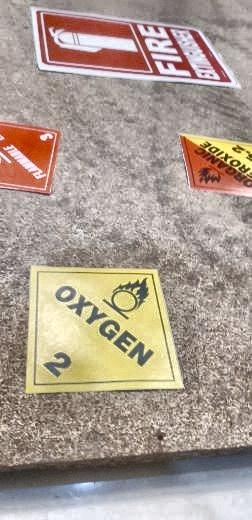flammable: (1, 119, 63, 198)
organic-peroxide: (181, 133, 252, 196)
oxidizer: (28, 265, 187, 394)
